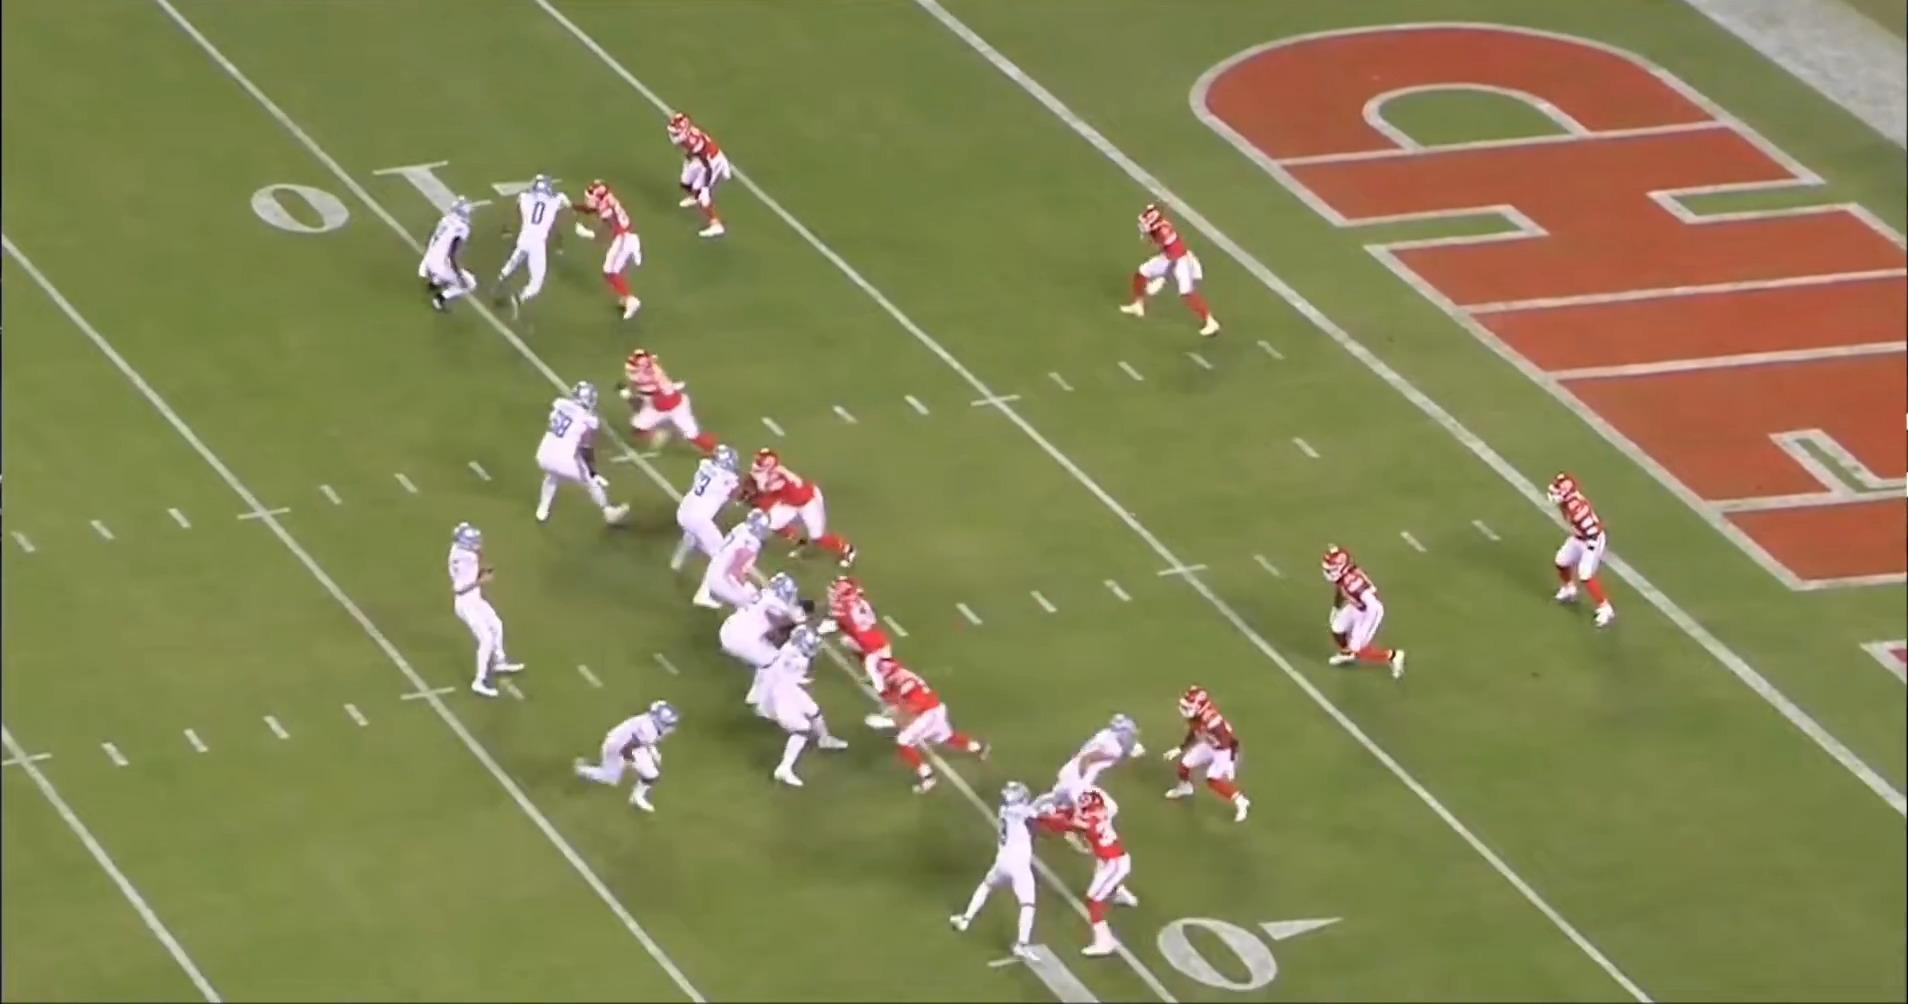defense: (867, 660, 992, 800), (1049, 787, 1136, 957), (1122, 202, 1222, 343), (747, 448, 861, 565), (1310, 546, 1403, 689), (1541, 474, 1616, 636), (623, 348, 727, 463), (1169, 680, 1251, 822), (573, 175, 649, 323), (818, 575, 893, 723), (674, 111, 743, 245)
oline: (752, 610, 851, 793), (521, 378, 622, 531), (713, 570, 804, 714), (702, 501, 798, 622), (665, 445, 748, 578)
qb: (435, 518, 517, 703)
skill: (955, 781, 1070, 964), (574, 692, 688, 815), (500, 173, 583, 309), (409, 190, 476, 314), (1057, 708, 1152, 792)
